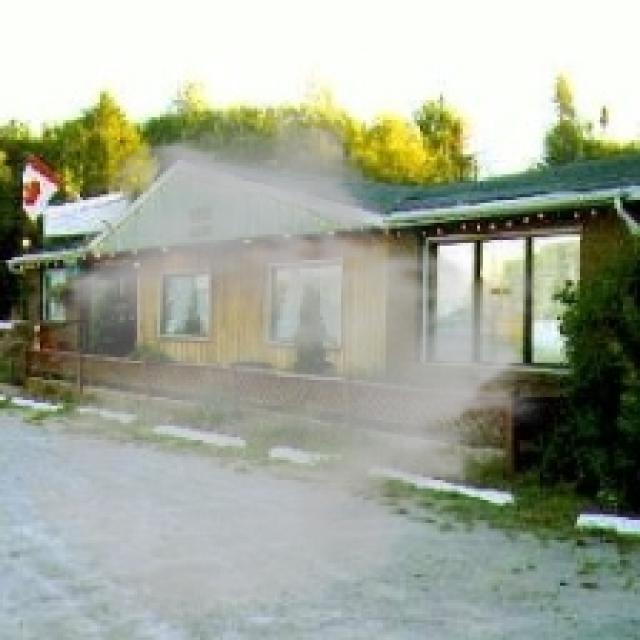Smoke: (14, 100, 557, 634)
